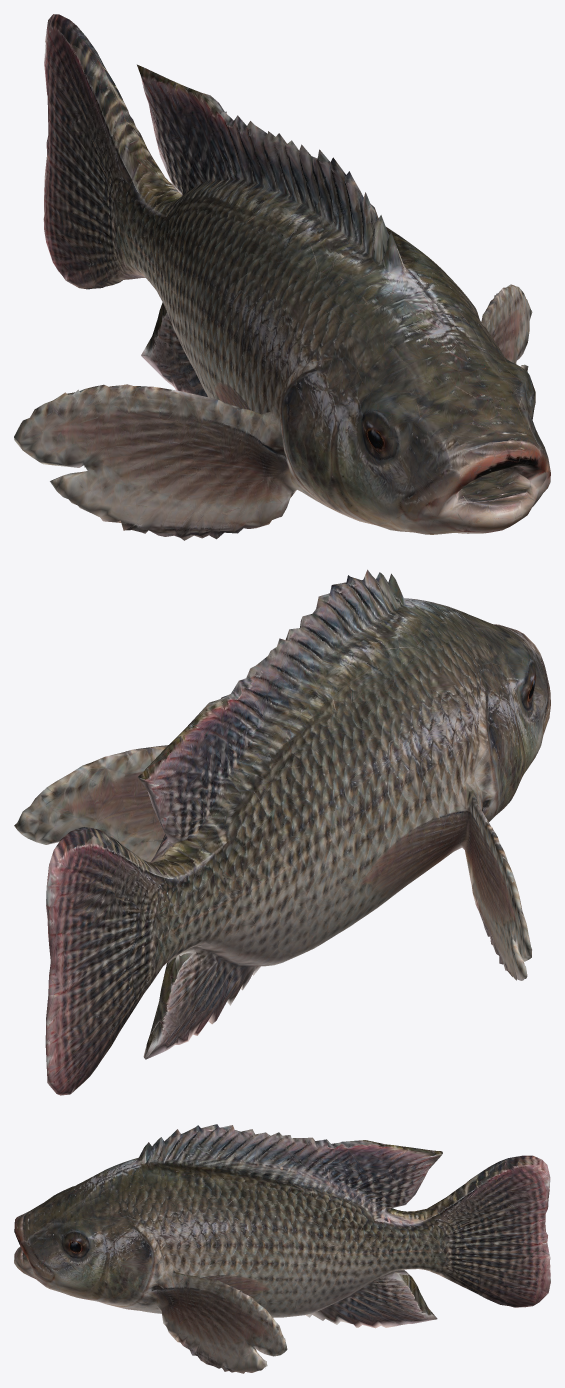
The model's file is fish_tilapia.glb.
3 views of the same model, one above another, from view 1: azimuth 30°, elevation 25°; view 2: azimuth 150°, elevation 25°; view 3: azimuth 270°, elevation 25° (orthographic). The views are drawn at different scales.
Visible parts, largest first — view 1: geometry_0; view 2: geometry_0; view 3: geometry_0.
Boxes of the visible parts, <box> form: geometry_0: <box>14,14,550,540</box>; geometry_0: <box>14,569,550,1095</box>; geometry_0: <box>14,1124,550,1373</box>.
Size of the model in its own units: 1.27 by 0.8241 by 1.96.
Materials: 1 (1 with a texture image).
